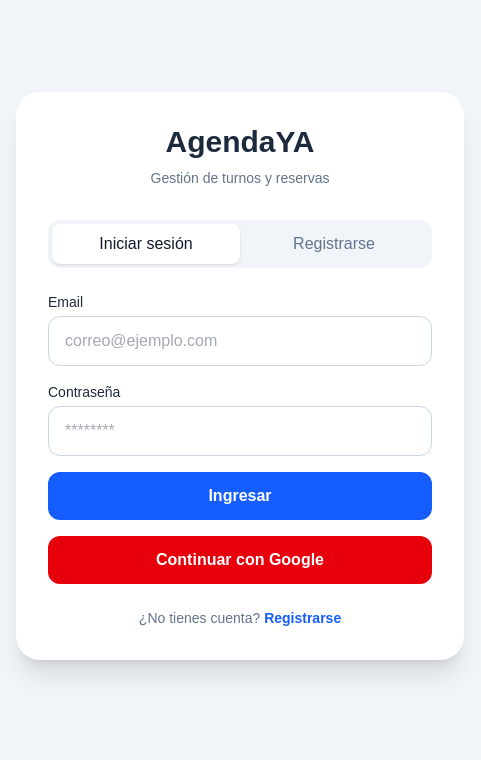
Test: AgendaYA - Registro de usuario › Muestra un error al intentar registrarse con un email ya registrado
Click the button with test id "register-tab" at (334, 244), box [240, 224, 428, 264]
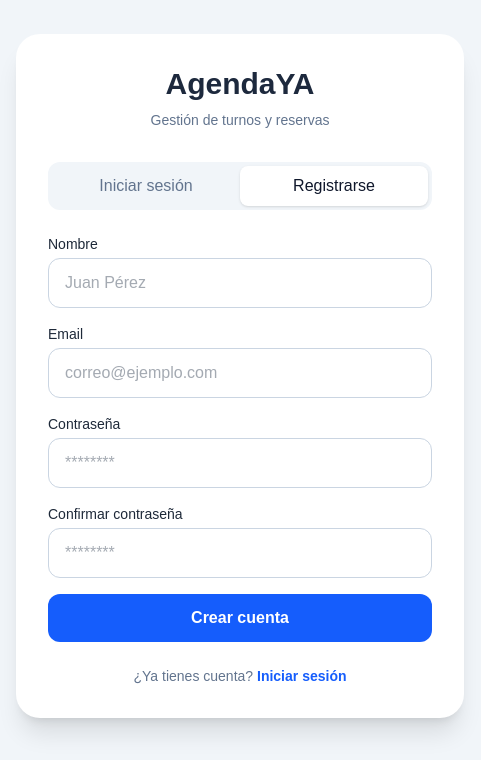
llenar el formulario de registro con un email ya registrado
Type "Otro Usuario" into the field with test id "register-name" at (240, 283), box [48, 258, 432, 308]
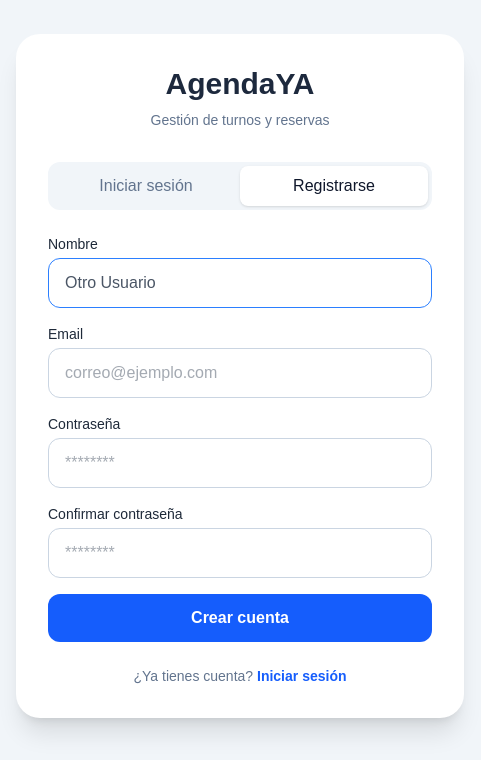
Type "bruno@test.com" into the field with test id "login-email" at (240, 373), box [48, 348, 432, 398]
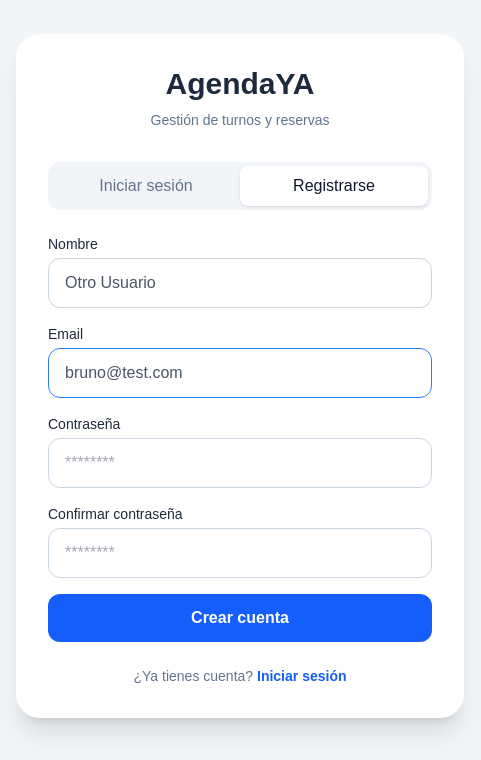
Type "password123" into the password field with test id "login-password" at (240, 463), box [48, 438, 432, 488]
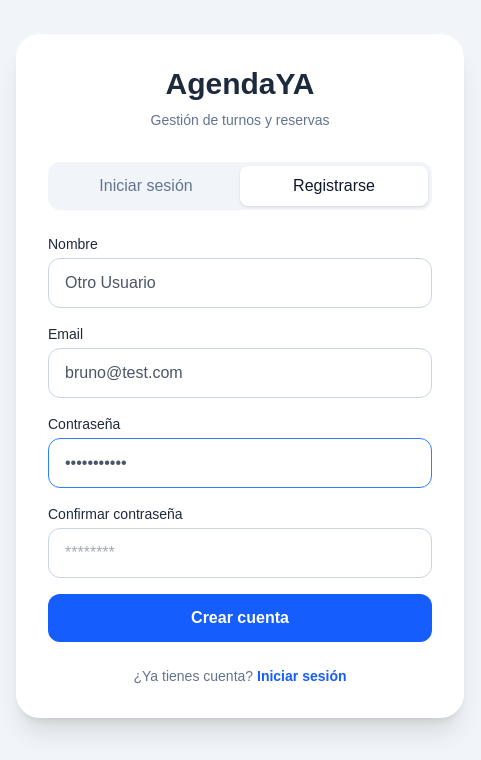
Type "password123" into the password field with test id "register-confirm-password" at (240, 553), box [48, 528, 432, 578]
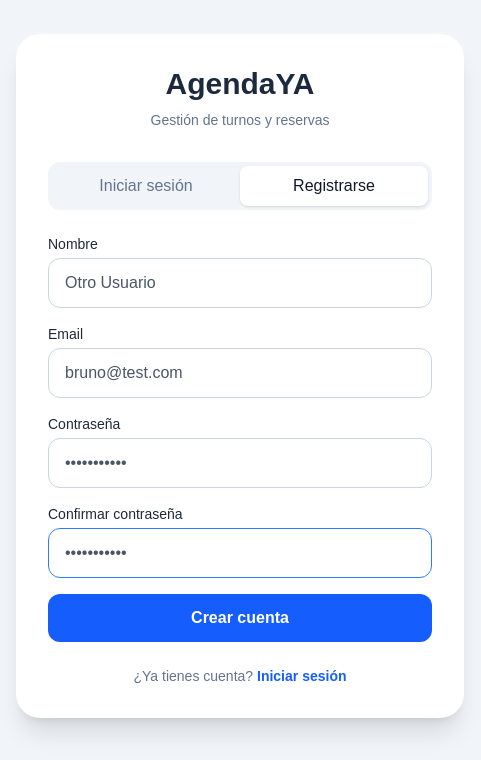
intentar crear la cuenta
Click the button with test id "submit-login" at (240, 618), box [48, 594, 432, 642]
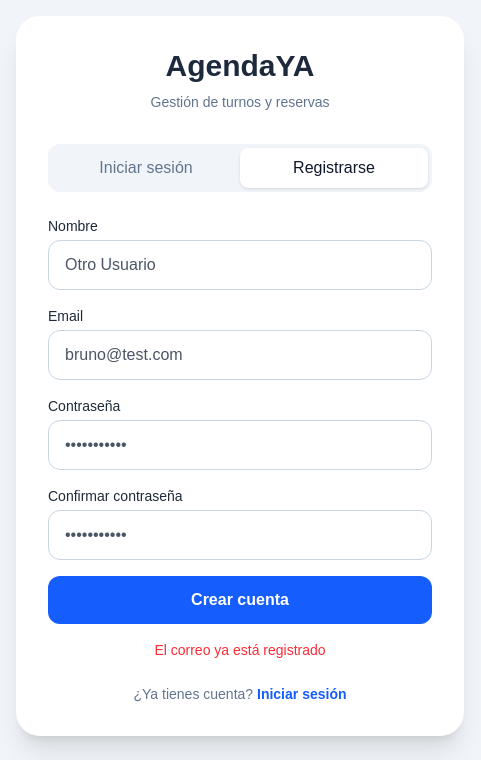
expect the text "El correo ya está registrado" is shown: met, box [154, 642, 326, 658]
expect the text with test id "login-error" reads "El correo ya está registrado": met, box [154, 642, 325, 658]
